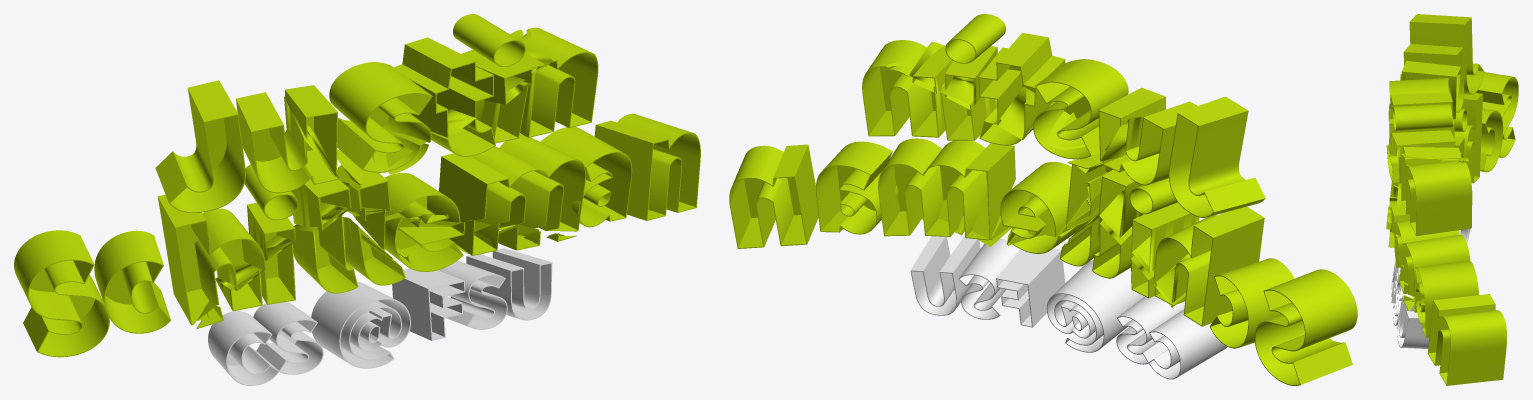
The model's file is C4DSS_V2.gltf.
3 views of the same model, side by side, from view 1: azimuth 30°, elevation 25°; view 2: azimuth 150°, elevation 25°; view 3: azimuth 270°, elevation 25° (orthographic). The views are drawn at different scales.
Visible parts, largest first — view 1: m_fracturepart5, S_fracturepart, s_fracturepart2, h_fracturepart3, J_fracturepart, n_fracturepart, S (×2), n_fracturepart5, u_fracturepart3, @, c_fracturepart, l_fracturepart4 (×2) (+20 smaller); view 2: m_fracturepart5, S_fracturepart, J_fracturepart, n_fracturepart, h_fracturepart3, n_fracturepart5, s_fracturepart2, S (×2), a_fracturepart, @, t_fracturepart2, c_fracturepart (+18 smaller); view 3: n_fracturepart, n_fracturepart5, m_fracturepart5, J_fracturepart, a_fracturepart, S_fracturepart, i_fracturepart (×2), h_fracturepart3, u_fracturepart3, u_fracturepart2, c_fracturepart, t_fracturepart2 (+10 smaller).
Part boxes in pixels (x1,y1,x2,y2): m_fracturepart5: (439, 134, 585, 231); S_fracturepart: (14, 230, 109, 357); s_fracturepart2: (329, 62, 432, 172); h_fracturepart3: (157, 194, 265, 325); J_fracturepart: (155, 80, 245, 212); n_fracturepart: (594, 113, 700, 220); S (×2): (253, 260, 507, 374); n_fracturepart5: (518, 27, 598, 137); u_fracturepart3: (236, 92, 339, 193); @: (311, 281, 410, 368); c_fracturepart: (94, 230, 170, 333); l_fracturepart4 (×2): (292, 209, 405, 293); m_fracturepart5: (878, 138, 1015, 240); S_fracturepart: (1255, 269, 1357, 385); J_fracturepart: (1168, 96, 1265, 217); n_fracturepart: (729, 144, 818, 248); h_fracturepart3: (1153, 206, 1264, 326); n_fracturepart5: (862, 40, 945, 137); s_fracturepart2: (1033, 59, 1128, 159); S (×2): (958, 239, 1185, 364); a_fracturepart: (816, 141, 898, 234); @: (1046, 260, 1144, 352); t_fracturepart2: (978, 33, 1065, 140); c_fracturepart: (1209, 258, 1294, 348); n_fracturepart: (1427, 294, 1507, 385); n_fracturepart5: (1401, 154, 1472, 236); m_fracturepart5: (1391, 204, 1470, 312); J_fracturepart: (1409, 14, 1484, 94); a_fracturepart: (1415, 261, 1478, 337); S_fracturepart: (1476, 72, 1518, 157); i_fracturepart (×2): (1393, 104, 1467, 131); h_fracturepart3: (1454, 93, 1482, 183); u_fracturepart3: (1400, 44, 1464, 112); u_fracturepart2: (1401, 61, 1460, 119); c_fracturepart: (1480, 108, 1503, 172); t_fracturepart2: (1388, 92, 1454, 147).
Size of the model in its own units: 10.01 by 4.37 by 2.21.
